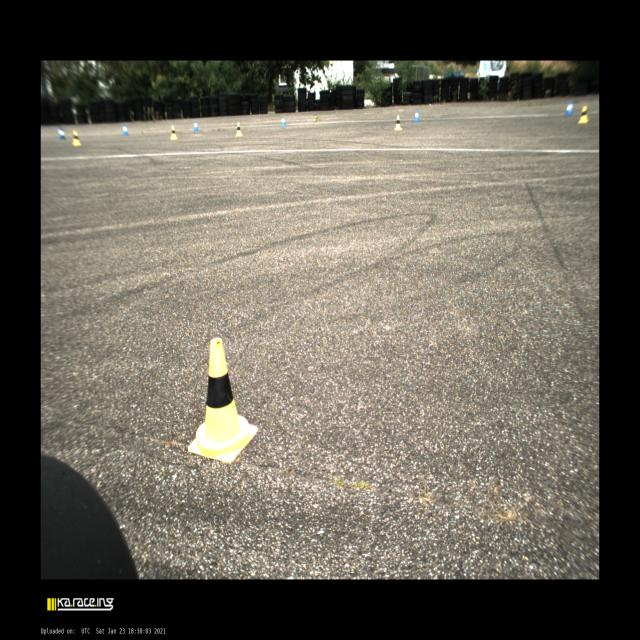blue_cone: (565, 101, 573, 116), (58, 127, 66, 140), (123, 124, 129, 136), (193, 120, 199, 132), (280, 115, 286, 126), (414, 109, 419, 122)
yellow_cone: (188, 338, 258, 463), (578, 105, 589, 124), (72, 130, 82, 146), (235, 122, 243, 136), (395, 115, 402, 130), (170, 125, 177, 140)
